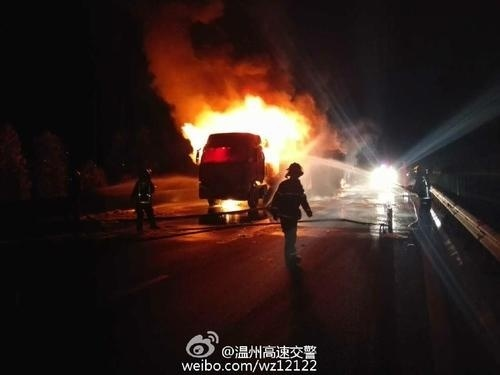fire: (178, 92, 315, 171)
